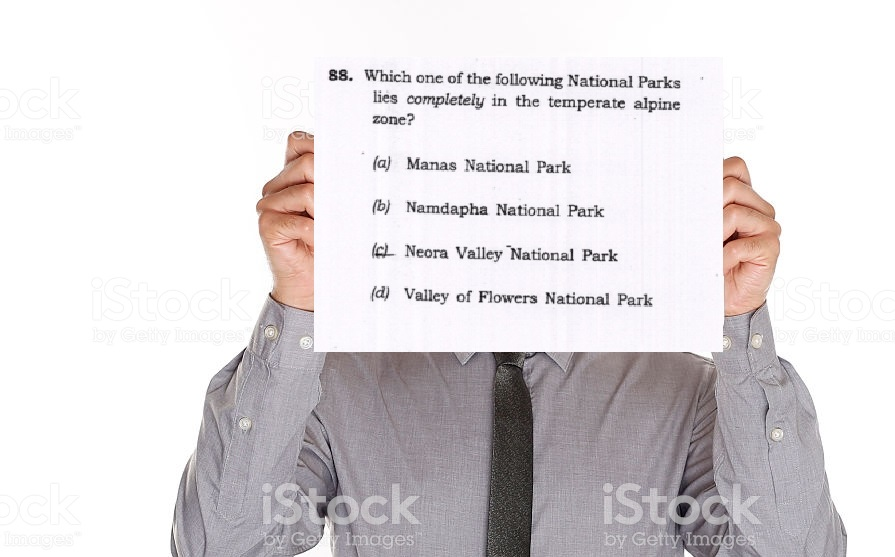questionPaper: (314, 58, 724, 350)
